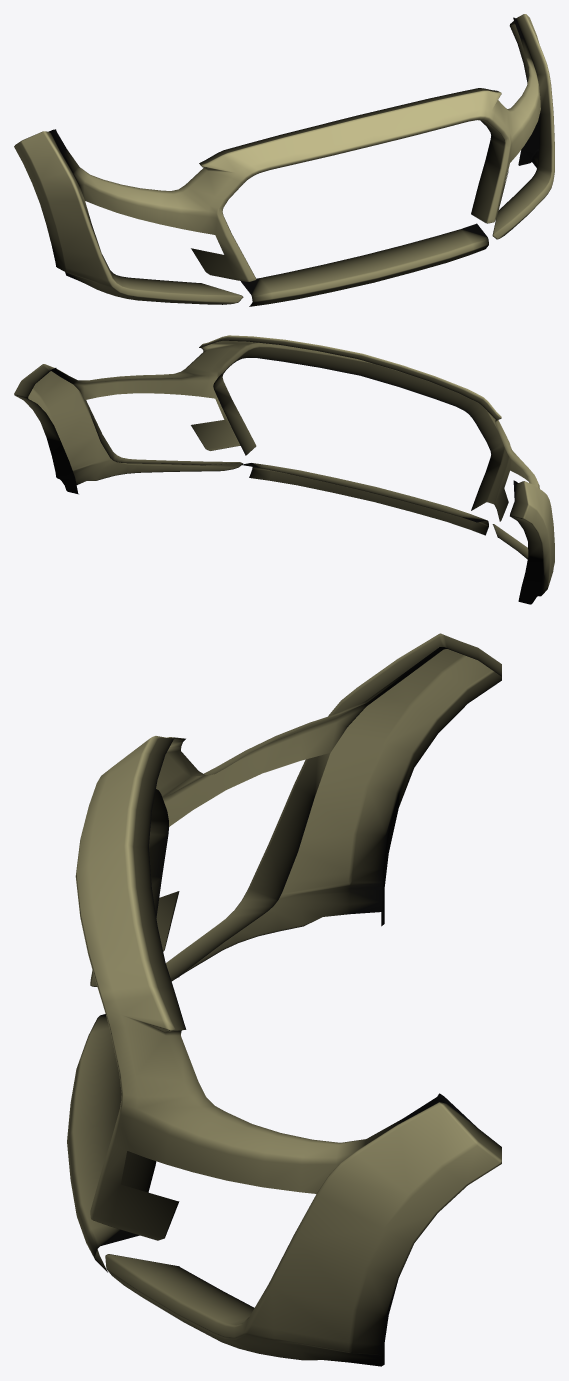
The model's file is Mustang16_FB_GT_Duco.fbx.
3 views of the same model, one above another, from view 1: azimuth 30°, elevation 25°; view 2: azimuth 150°, elevation 25°; view 3: azimuth 270°, elevation 25° (orthographic). The views are drawn at different scales.
Visible parts, largest first — view 1: Mustang16_FB_GT_Duco; view 2: Mustang16_FB_GT_Duco; view 3: Mustang16_FB_GT_Duco.
Part boxes in pixels (bbox=[...]): Mustang16_FB_GT_Duco: bbox=[14, 14, 554, 306]; Mustang16_FB_GT_Duco: bbox=[14, 335, 554, 604]; Mustang16_FB_GT_Duco: bbox=[67, 633, 501, 1366].
Size of the model in its own units: 194 by 56.9 by 71.62.
